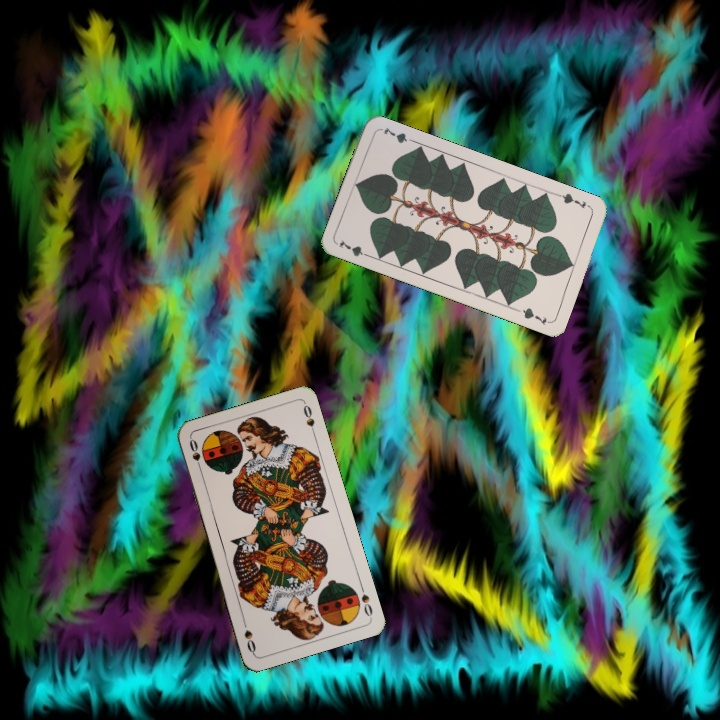G7: (334, 236, 374, 260), (554, 189, 593, 212)
SO: (185, 435, 204, 475), (356, 580, 375, 619)
